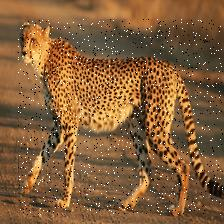Cheetha: (19, 20, 224, 216)
